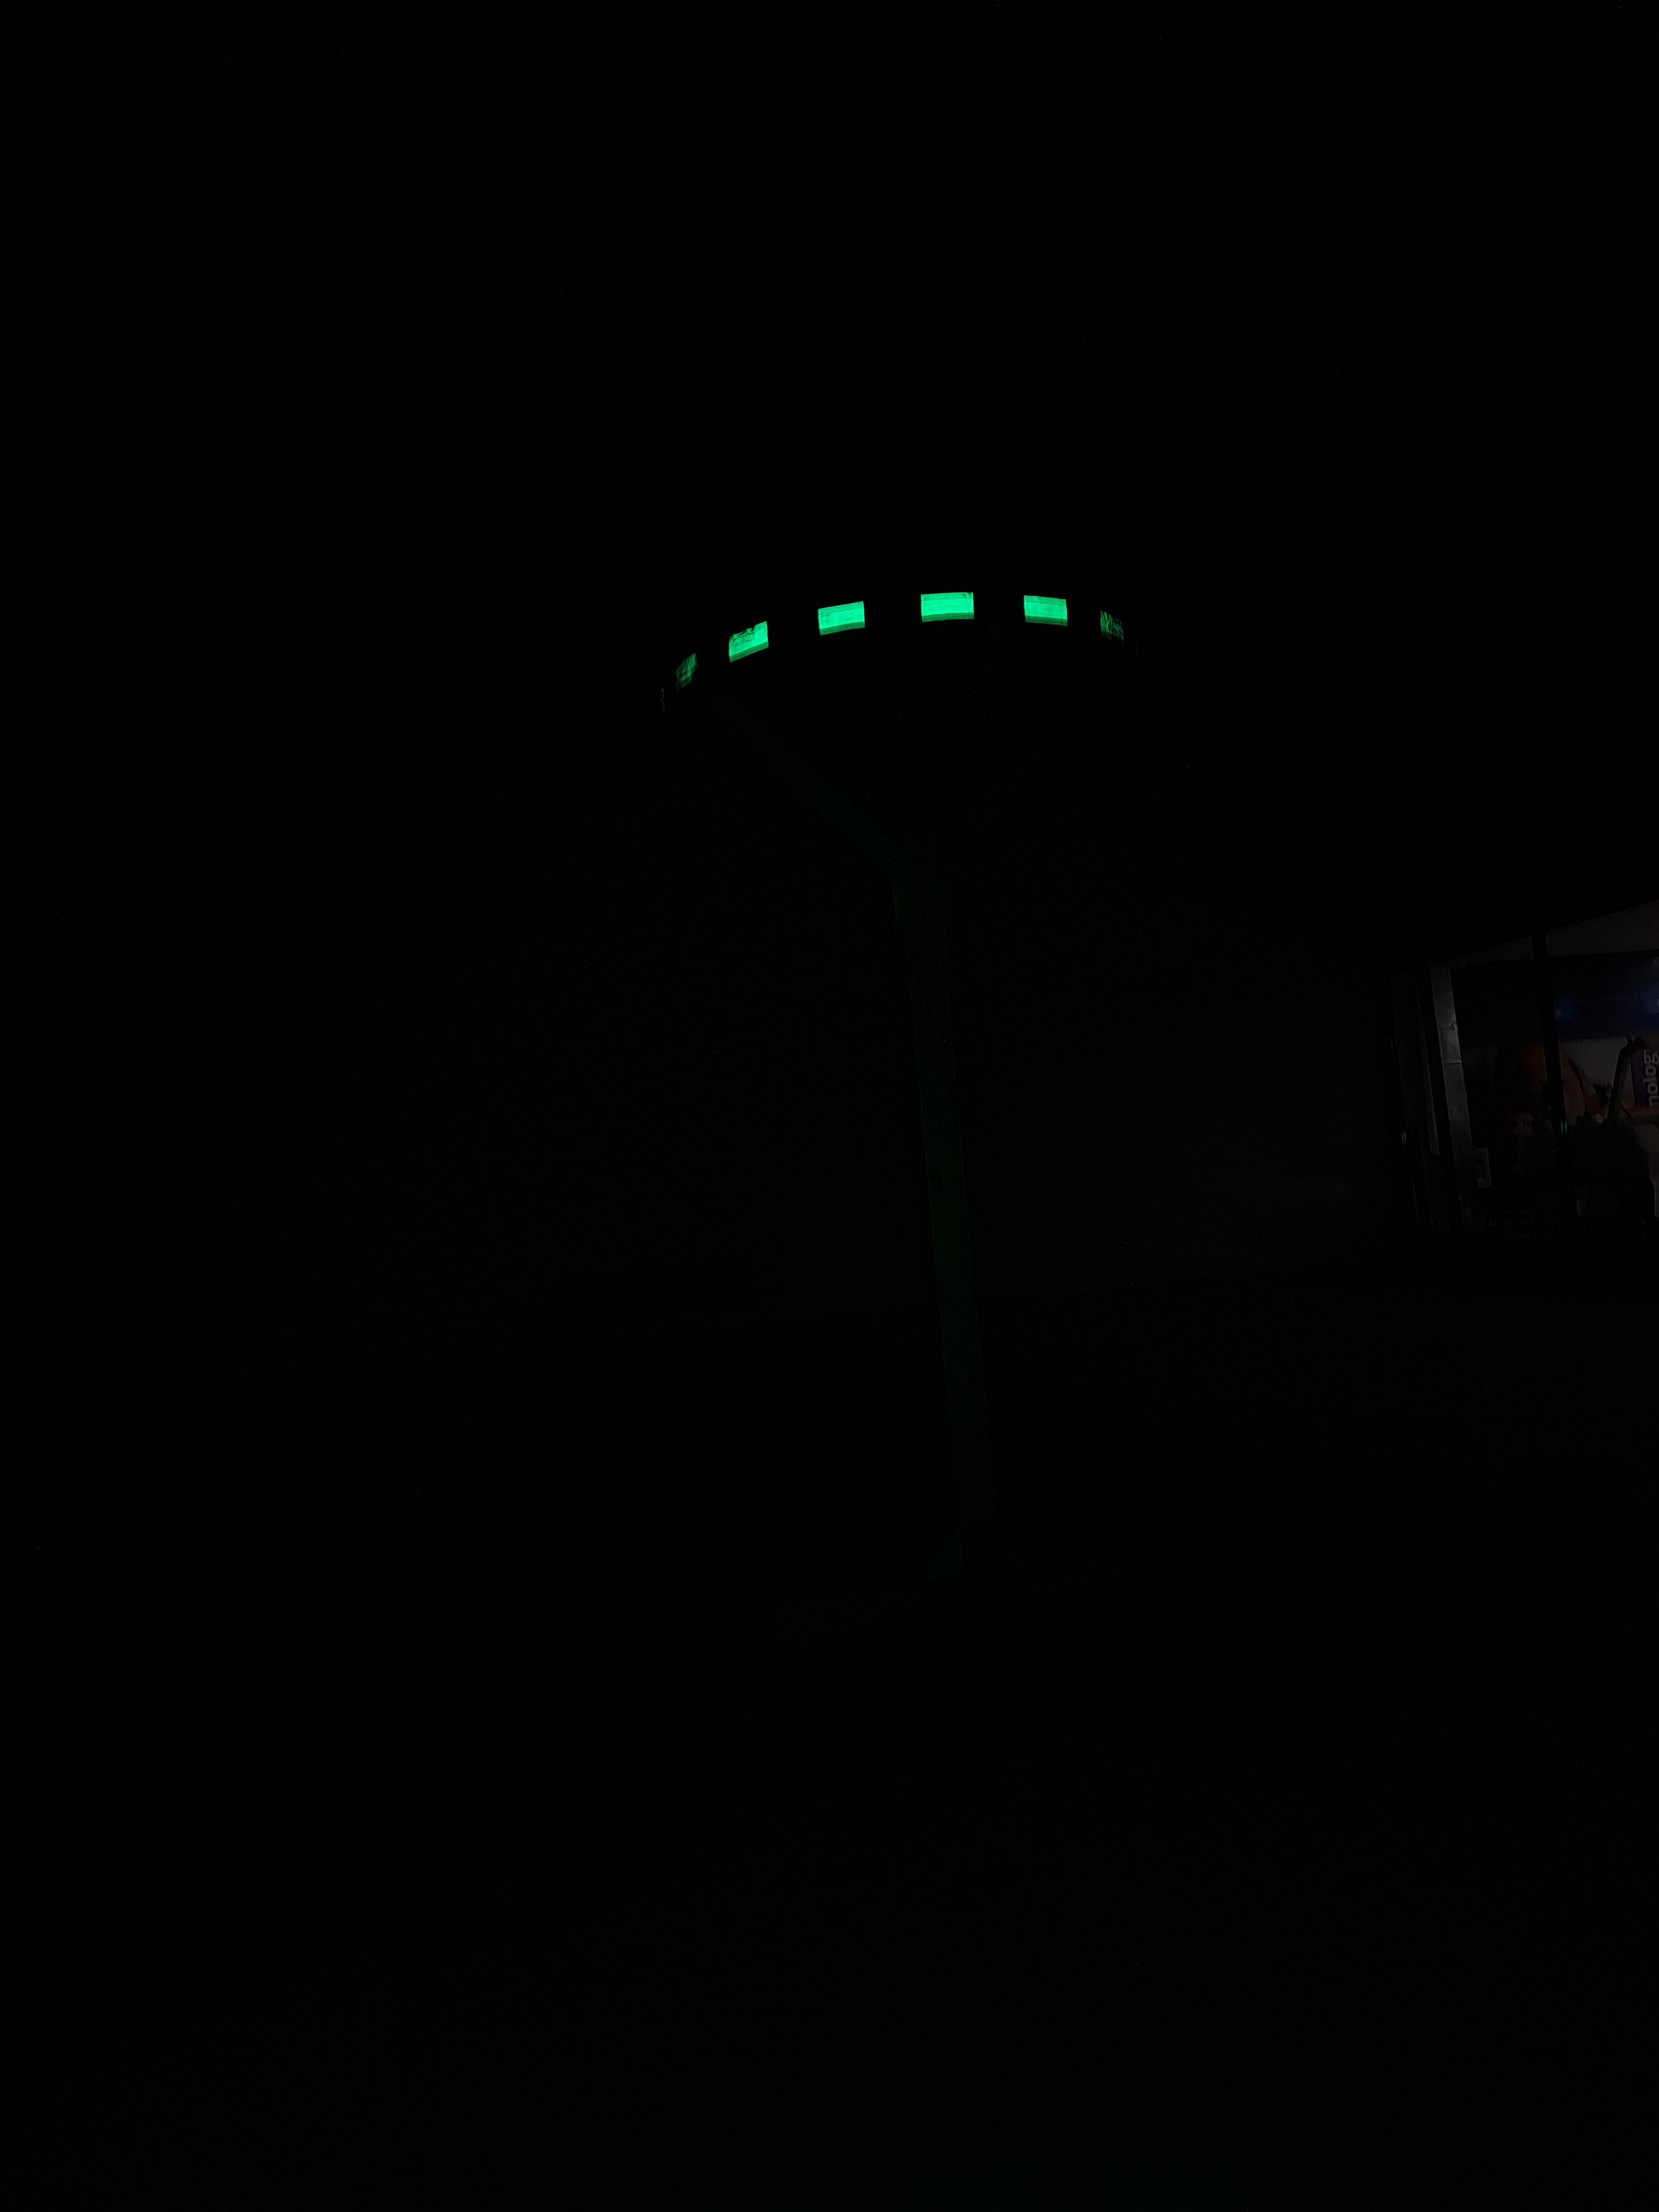hoop: (650, 545, 1159, 714)
